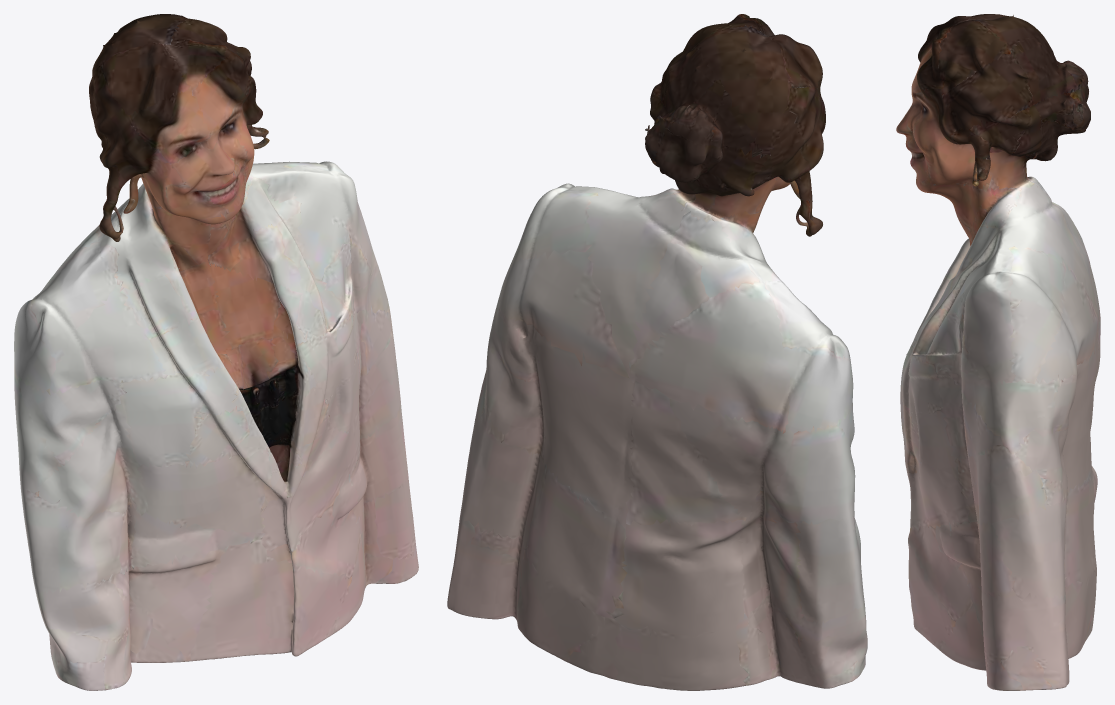
File: Meshy_AI_Radiant_Elegance_compressed.glb
The picture shows the model from 3 angles, left to right: view 1: azimuth 30°, elevation 25°; view 2: azimuth 150°, elevation 25°; view 3: azimuth 270°, elevation 25°; orthographic projection. The views are drawn at different scales.
Bounding box in the file's own units: 1.22 × 1.89 × 0.6125.
1 material, 1 textured.
